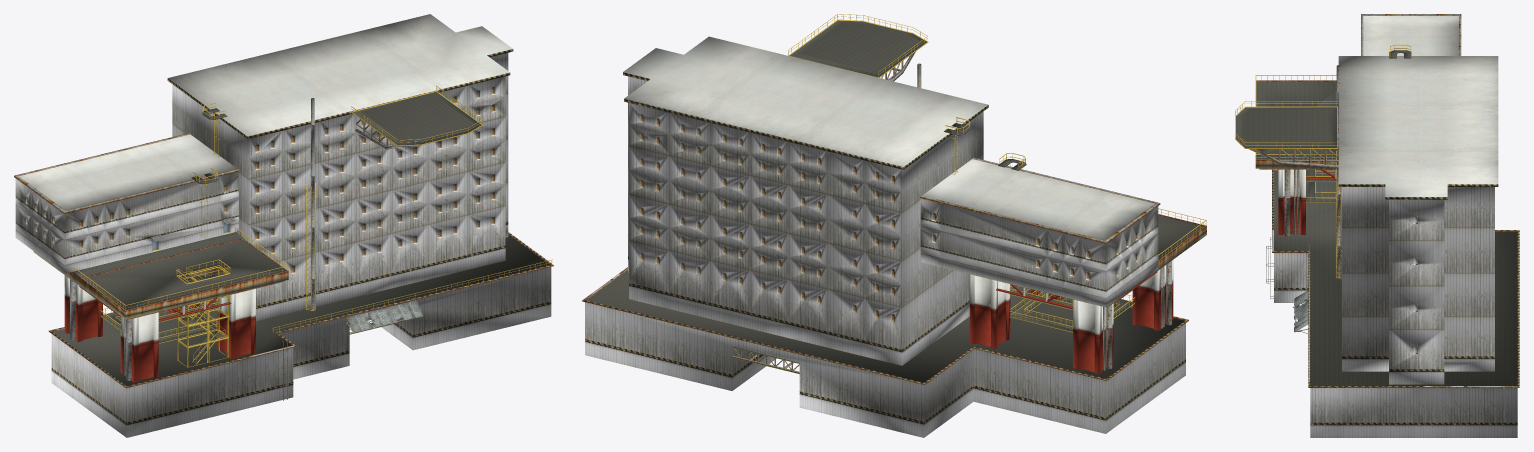
The model's file is building_4.obj.
The picture shows the model from 3 angles, left to right: view 1: azimuth 30°, elevation 25°; view 2: azimuth 150°, elevation 25°; view 3: azimuth 270°, elevation 25°; orthographic projection. The views are drawn at different scales.
Visible parts, largest first — view 1: building_4.obj; view 2: building_4.obj; view 3: building_4.obj.
Boxes of the visible parts, box(x1,y1,x2,y2) form: building_4.obj: box(14, 14, 553, 437); building_4.obj: box(582, 14, 1206, 437); building_4.obj: box(1235, 14, 1519, 437).
Bounding box in the file's own units: 113 × 61.04 × 59.9.
Materials: 8 (7 with a texture image).
